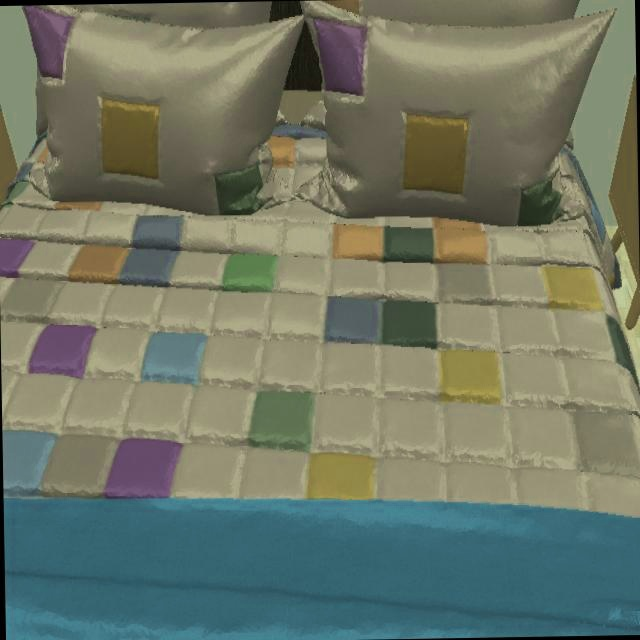pillow: (19, 0, 535, 246)
